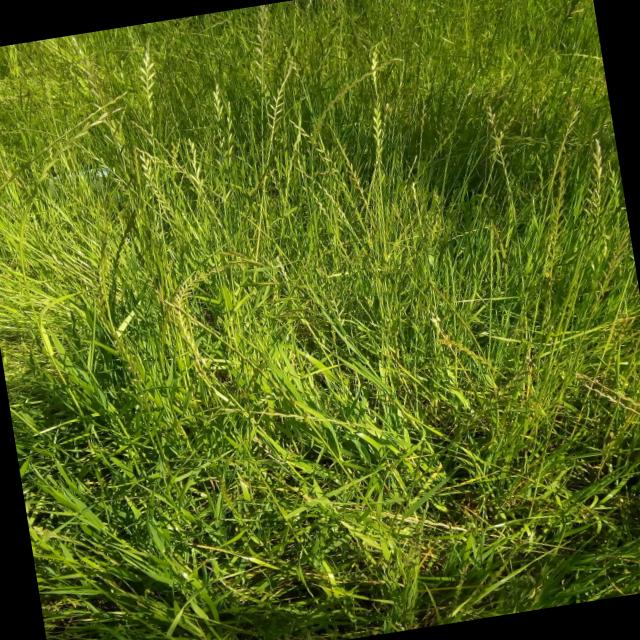Lolium: (164, 260, 268, 374), (19, 106, 138, 198), (298, 58, 408, 146), (232, 388, 368, 449), (446, 356, 548, 436), (190, 86, 250, 206), (535, 158, 587, 264), (578, 229, 640, 316), (573, 359, 640, 437), (293, 117, 346, 198), (167, 140, 212, 217), (63, 89, 133, 132), (575, 138, 612, 217), (506, 124, 580, 158), (140, 153, 176, 219), (250, 8, 282, 82), (258, 72, 298, 130), (442, 328, 494, 372), (548, 109, 590, 163), (129, 51, 163, 116), (332, 137, 366, 198), (210, 242, 266, 276), (538, 46, 603, 72), (218, 104, 242, 170), (317, 180, 351, 226), (482, 106, 508, 166), (297, 26, 342, 60), (364, 106, 392, 160), (262, 81, 294, 128), (366, 50, 387, 101), (306, 184, 332, 220), (430, 187, 448, 239), (553, 0, 595, 20), (408, 180, 426, 226), (390, 202, 408, 233)
